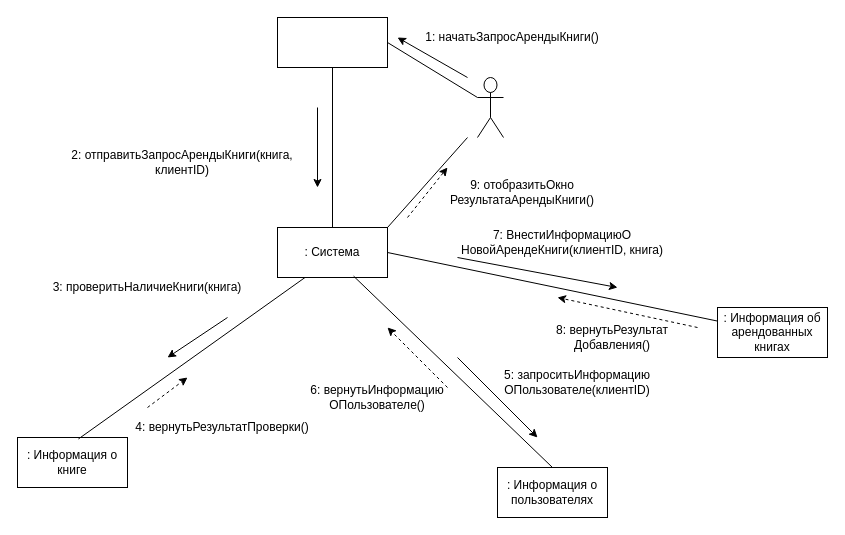
Some shapes in this 845 by 535 pixel diagram are drawn without their labels. The shapes that lost their labels are listed below. From the top down, each one's box as (x1, y1, x2, y2) in pixels, then its label:
(276, 16, 388, 68): b: Окно выбора книги
(476, 76, 504, 138): a: Клиент
